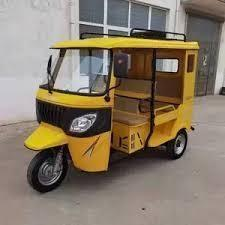keke: (23, 28, 202, 201)
